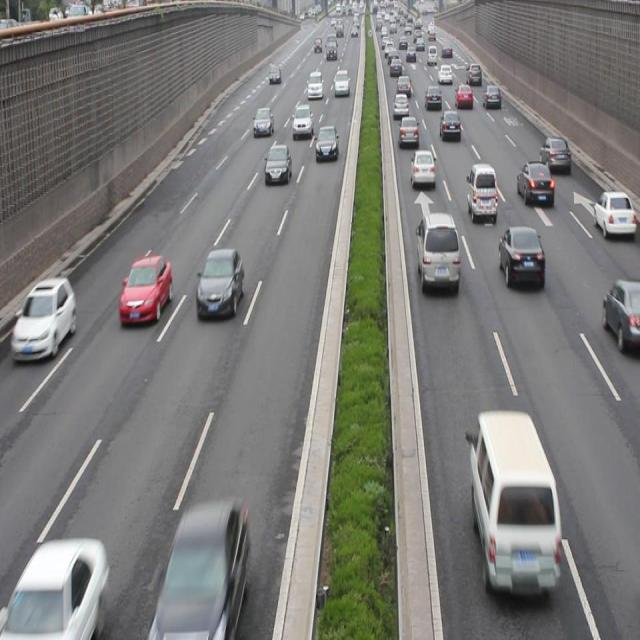car: (157, 500, 246, 640), (0, 539, 104, 640), (16, 275, 76, 361), (120, 252, 172, 326), (197, 247, 244, 320), (498, 224, 543, 288), (601, 278, 640, 348), (594, 188, 640, 238), (516, 159, 553, 207), (540, 134, 569, 173), (409, 147, 435, 187), (265, 144, 291, 182), (315, 124, 338, 162), (439, 108, 461, 142), (292, 103, 312, 136), (398, 115, 418, 146), (253, 106, 273, 136)
truck: (467, 411, 559, 593), (416, 212, 459, 288), (467, 162, 497, 220)
